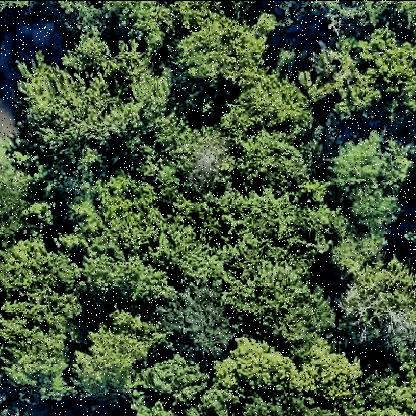tree-top: (19, 48, 148, 150), (73, 173, 171, 296), (2, 248, 79, 403), (311, 29, 416, 122), (170, 1, 275, 93), (326, 128, 411, 230), (236, 252, 336, 338), (73, 310, 155, 396), (336, 264, 416, 351), (152, 202, 233, 278), (217, 76, 313, 136), (159, 282, 234, 357), (235, 126, 312, 198), (288, 341, 364, 408), (215, 338, 293, 396), (175, 132, 237, 199), (145, 351, 209, 409), (339, 368, 416, 416), (329, 223, 390, 277), (2, 166, 42, 242), (107, 2, 167, 50)
